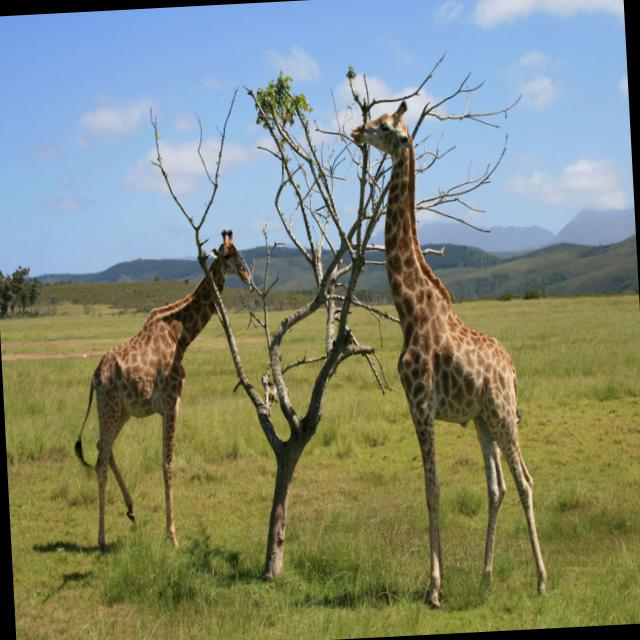girafee: (325, 51, 551, 567), (52, 195, 289, 560)
